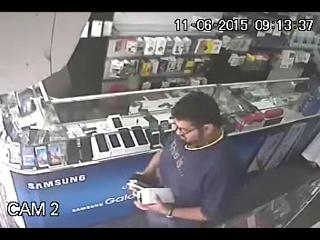shoplifting: (126, 93, 247, 224)
